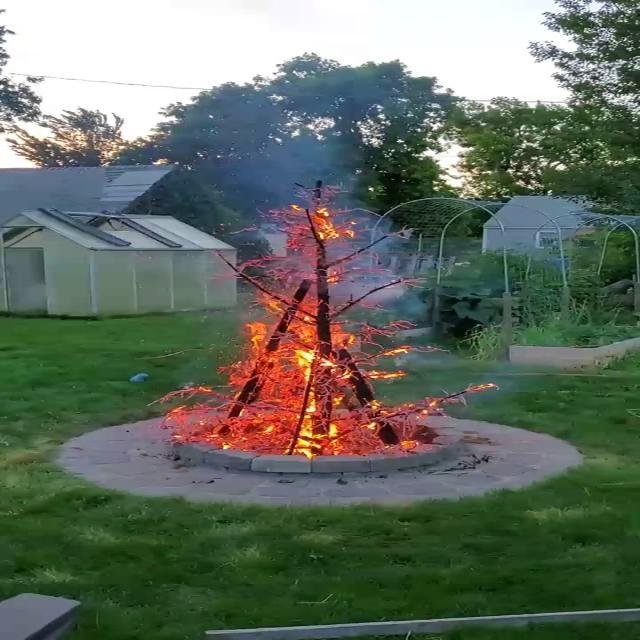Fire: (222, 299, 396, 466)
Smoke: (197, 95, 418, 284)
